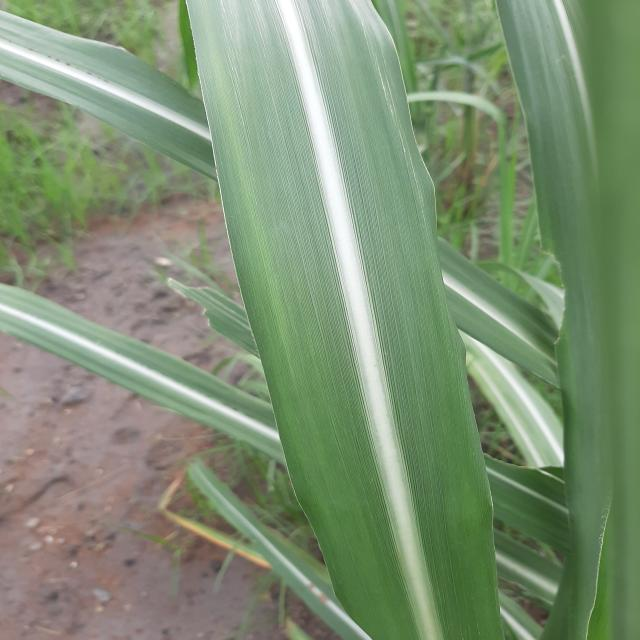Sugarcane: (181, 0, 507, 639)
